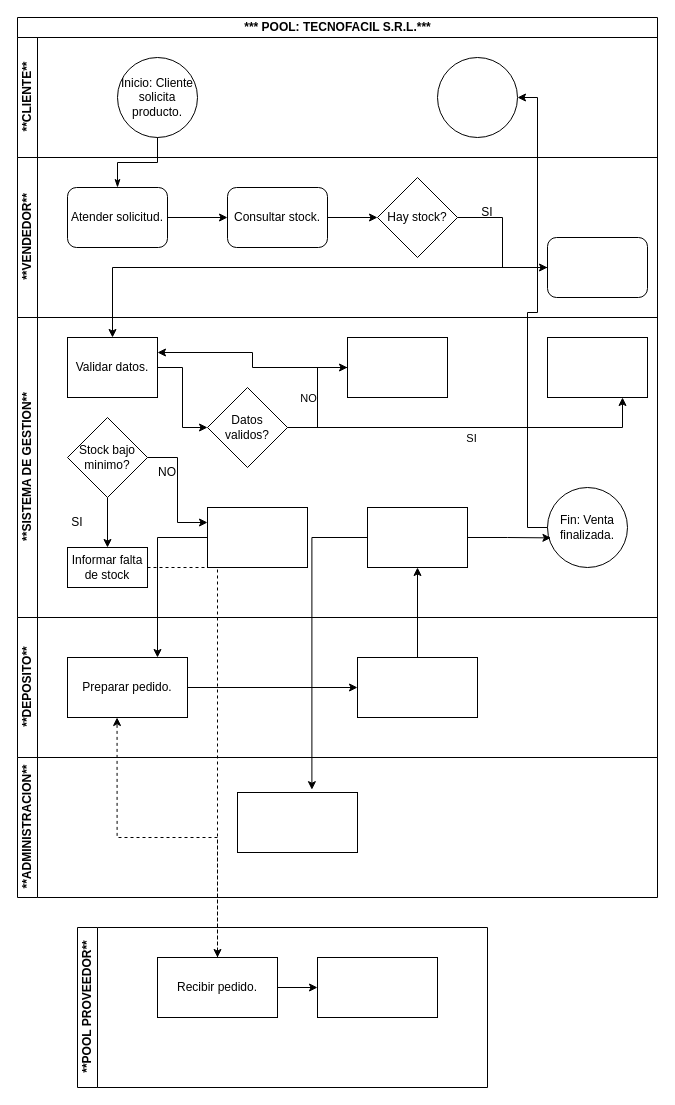
The diagram is 675 pixels wide and 1105 high, and some of its shapes have lost their labels. Each missing label, with the centre of its shape:
"Consultar reportes de ventas y stock." belongs at (297,822).
"Corregir datos." belongs at (397,367).
"Descontar stock." belongs at (597,367).
"Entregar mercaderia" belongs at (377,987).
"Entregar producto." belongs at (417,687).
"Fin: Recibe producto." belongs at (477,97).
"Generar comprobante." belongs at (257,537).
"Registrar entrega." belongs at (417,537).
"Registrar venta." belongs at (597,267).
